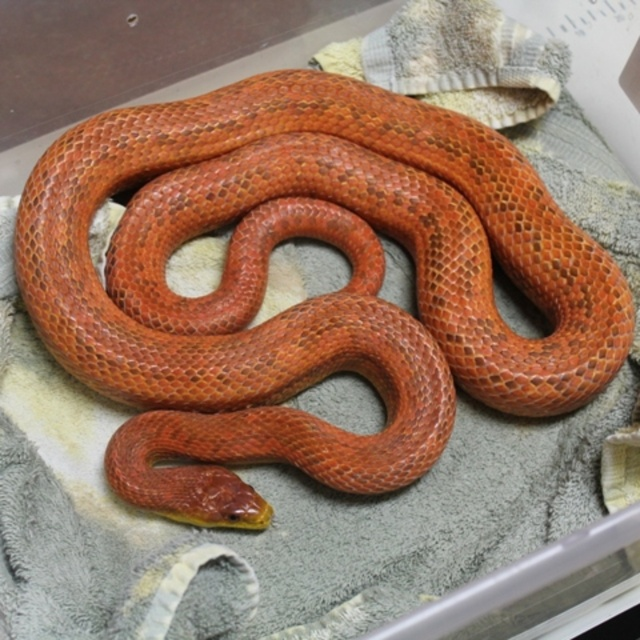Snake: (13, 69, 635, 531)
